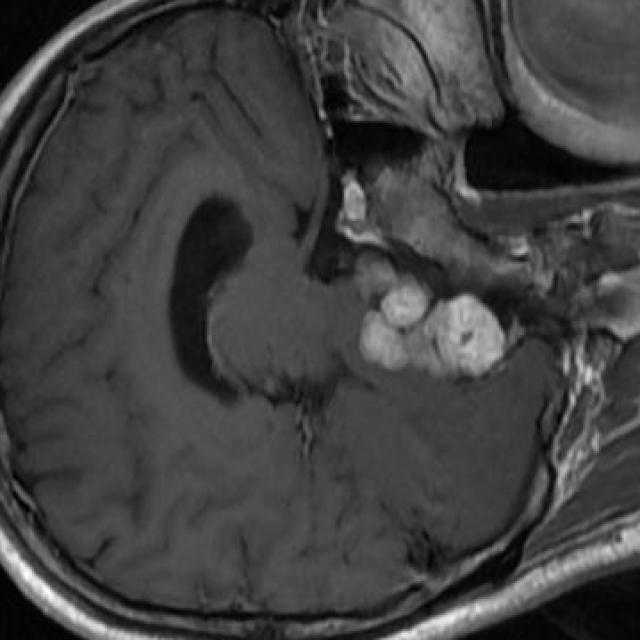meningioma: (353, 253, 506, 376)
